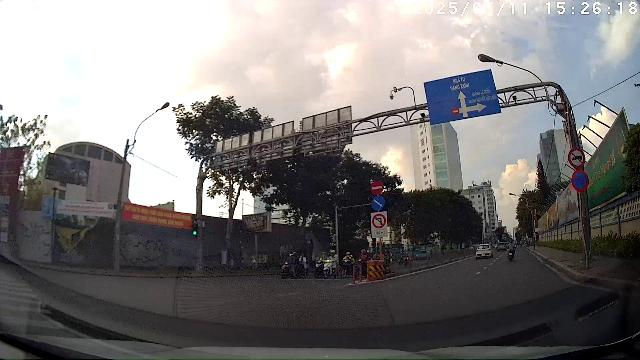102-cam-di-nguoc-chieu: (370, 180, 384, 195)
123a-cam-re-trai: (371, 213, 387, 229)
131a-cam-do-xe: (571, 169, 589, 192)
302a-huong-phai-di-vong-chuong-ngai-vat-1: (371, 195, 386, 210)
